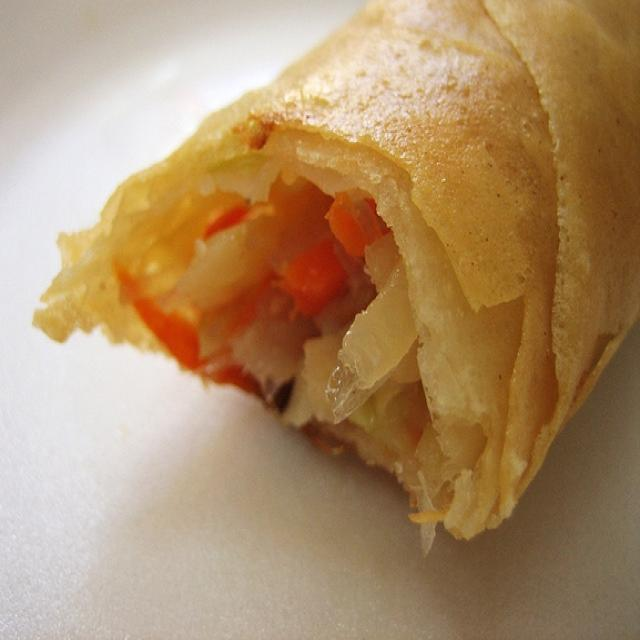炸货点心: (40, 4, 623, 572)
